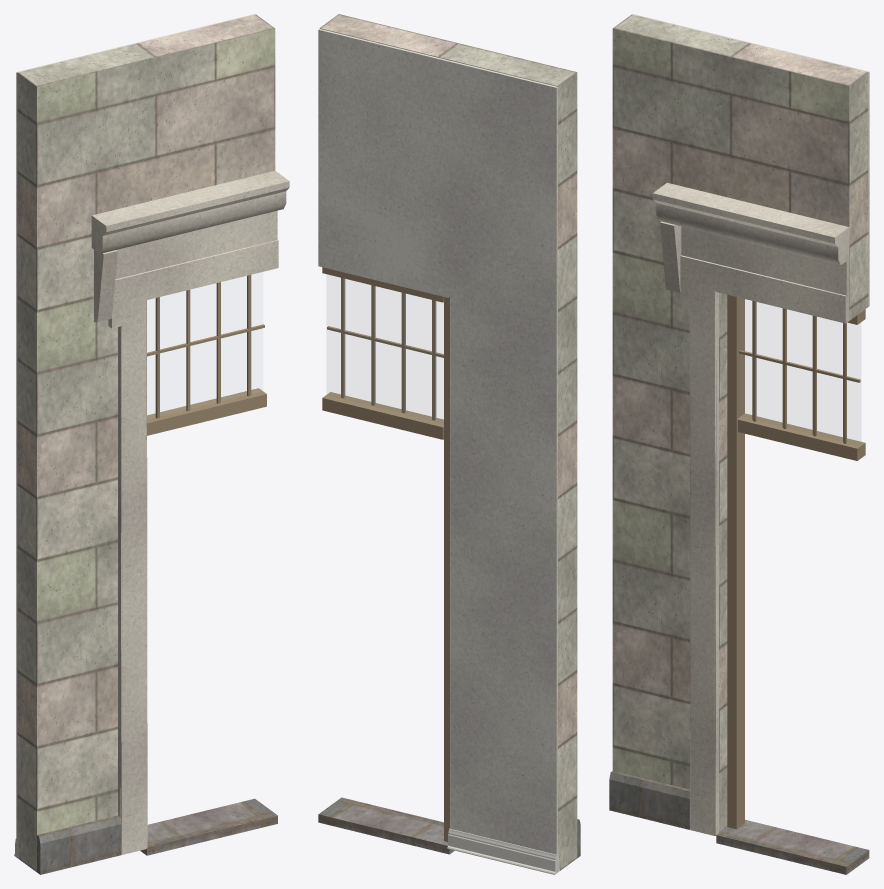
Rendered from f_door_l.glb.
3 views of the same model, side by side, from view 1: azimuth 30°, elevation 25°; view 2: azimuth 150°, elevation 25°; view 3: azimuth 330°, elevation 25° (orthographic).
Visible parts, largest first — view 1: f_door_l_stone, f_door_l_carve, f_door_l_glass, f_door_l_granite, f_door_l_bronze, f_door_l_plaster; view 2: f_door_l_plaster, f_door_l_stone, f_door_l_glass, f_door_l_bronze, f_door_l_granite, molduras; view 3: f_door_l_stone, f_door_l_carve, f_door_l_bronze, f_door_l_glass, f_door_l_granite, f_door_l_plaster.
Boxes of the visible parts, x1=… form: f_door_l_stone: x1=17, y1=14, x2=275, y2=871; f_door_l_carve: x1=91, y1=170, x2=289, y2=854; f_door_l_glass: x1=147, y1=272, x2=262, y2=418; f_door_l_granite: x1=37, y1=798, x2=277, y2=874; f_door_l_bronze: x1=147, y1=275, x2=266, y2=435; f_door_l_plaster: x1=16, y1=14, x2=254, y2=857; f_door_l_plaster: x1=318, y1=28, x2=557, y2=872; f_door_l_stone: x1=319, y1=14, x2=577, y2=870; f_door_l_glass: x1=327, y1=275, x2=443, y2=422; f_door_l_bronze: x1=322, y1=267, x2=449, y2=841; f_door_l_granite: x1=318, y1=797, x2=580, y2=857; molduras: x1=447, y1=828, x2=559, y2=874; f_door_l_stone: x1=612, y1=14, x2=868, y2=832; f_door_l_carve: x1=652, y1=182, x2=849, y2=835; f_door_l_bronze: x1=727, y1=295, x2=865, y2=829; f_door_l_glass: x1=741, y1=299, x2=860, y2=444; f_door_l_granite: x1=609, y1=771, x2=869, y2=874; f_door_l_plaster: x1=633, y1=14, x2=869, y2=306.
Size of the model in its own units: 2 by 6.36 by 0.54.
Materials: 7 (4 with a texture image).
